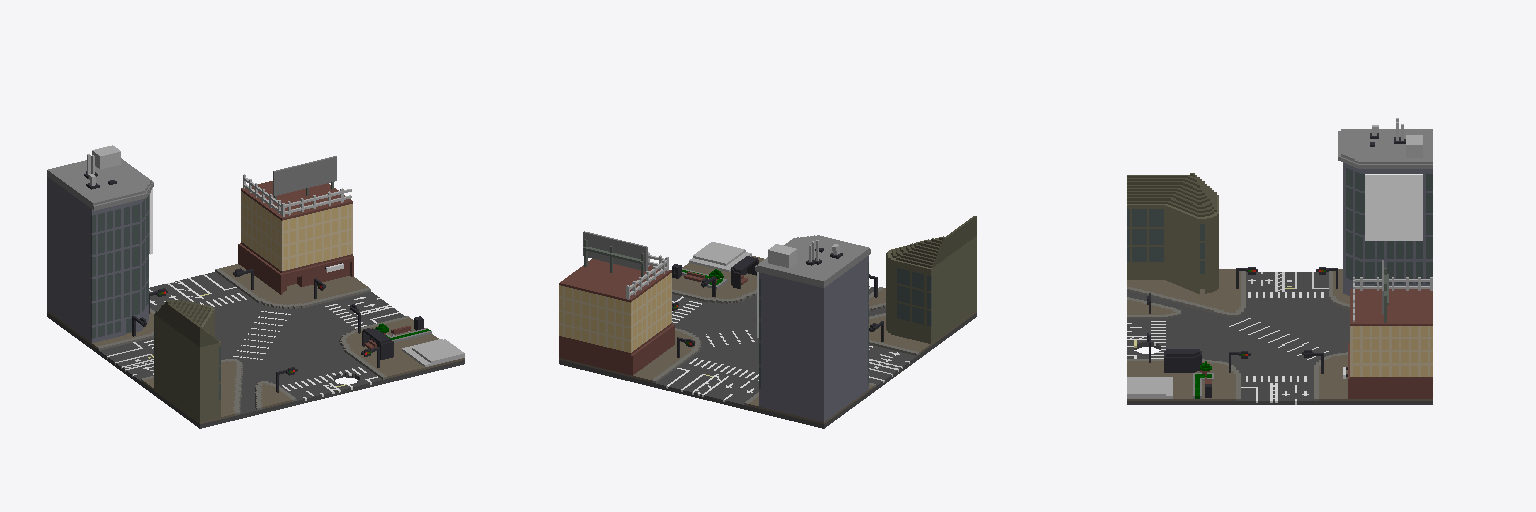
The picture shows the model from 3 angles: view 1: azimuth 30°, elevation 25°; view 2: azimuth 150°, elevation 25°; view 3: azimuth 270°, elevation 25°; orthographic projection.
Size of the model in its own units: 126 by 77 by 126.
1 materials, 1 textured.